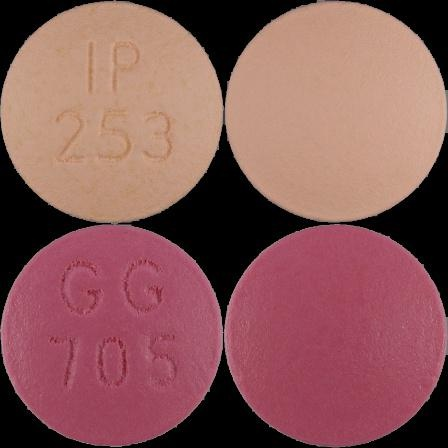53808-0775: (0, 0, 224, 224)
